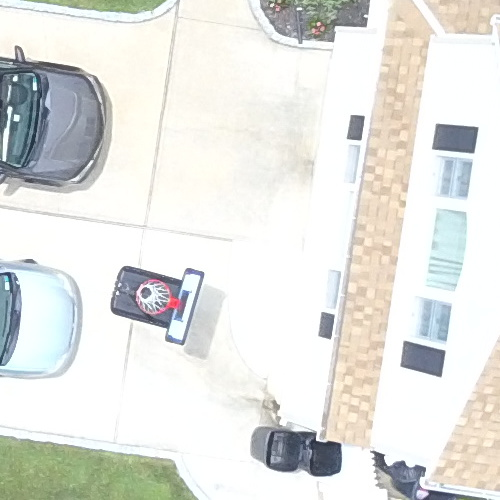basketball: (108, 254, 222, 353)
trash bin: (288, 422, 350, 491), (248, 418, 309, 483)
